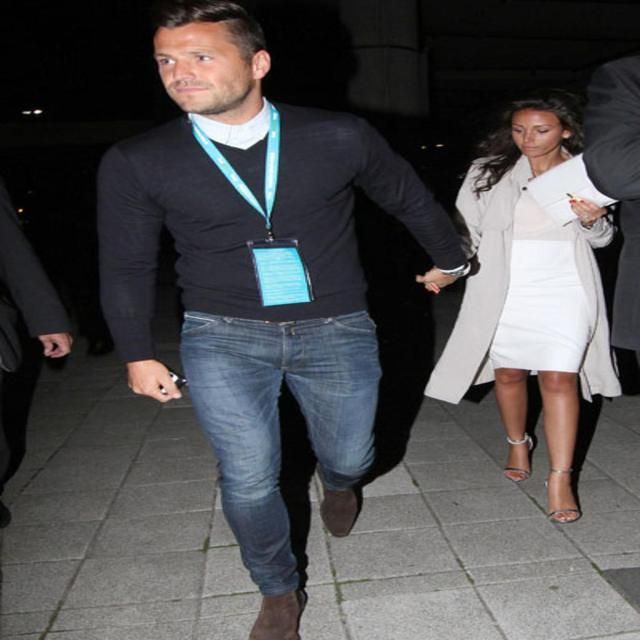Face: (151, 21, 259, 121), (497, 108, 577, 155)
